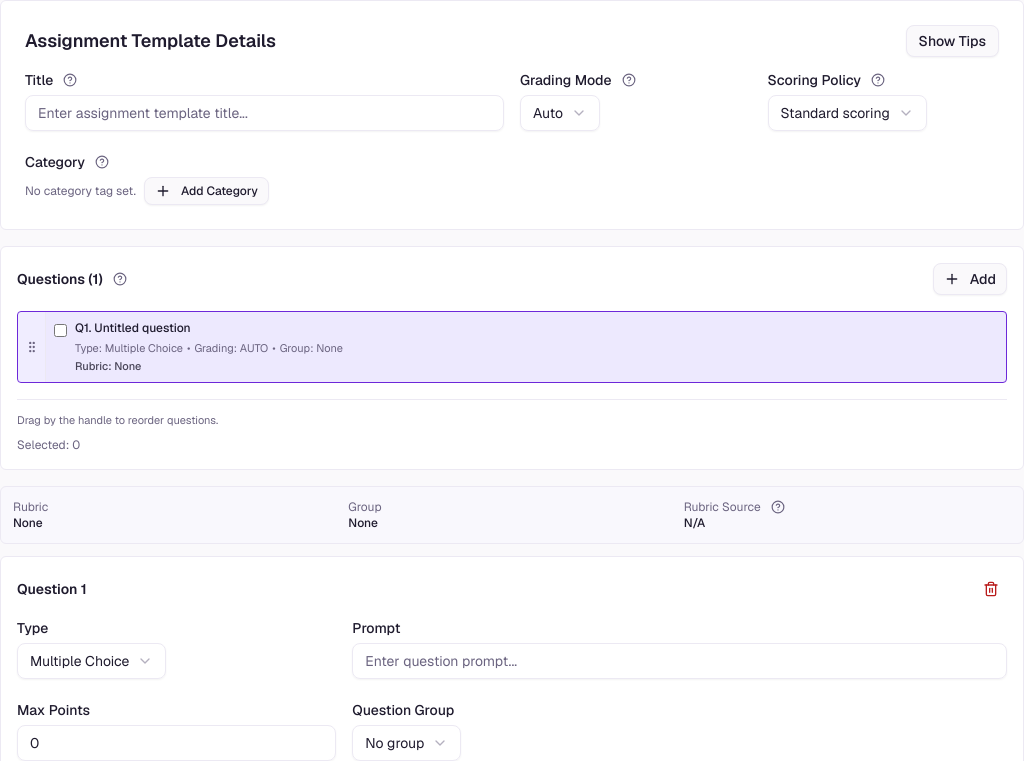
Scenario: AssignmentTemplateBuilderForm › toggles tips visibility
Expected: the text "Use MANUAL when every question should be rubric-graded" is not shown
Step 1. Click the button "Show Tips" → point(952, 41), box x1=906 y1=25 x2=999 y2=57
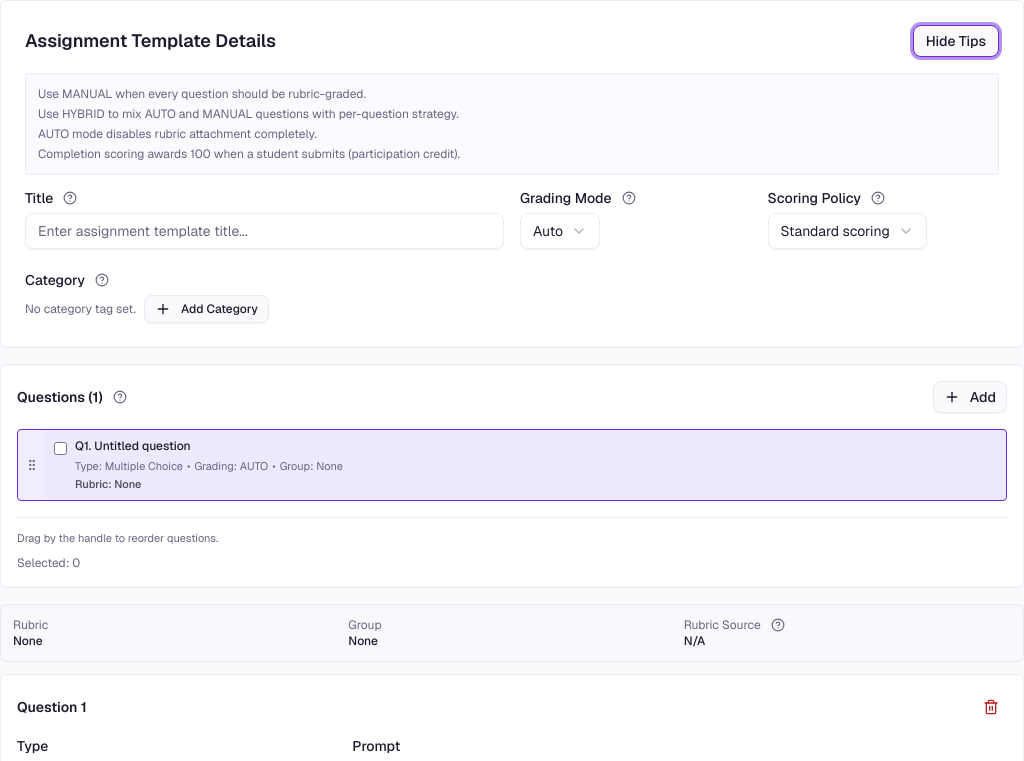
Expected: the text "Use MANUAL when every question should be rubric-graded." is shown, x1=38 y1=86 x2=366 y2=102
